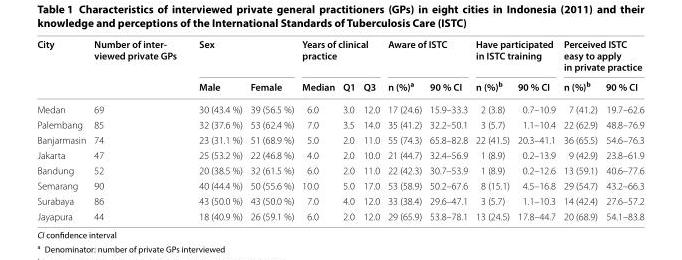table: (36, 37, 643, 221)
table column: (89, 37, 187, 221), (187, 37, 245, 221), (36, 37, 89, 221), (245, 37, 297, 221), (512, 37, 559, 221), (425, 37, 471, 221), (600, 37, 643, 221), (383, 37, 425, 221), (297, 37, 338, 221), (471, 37, 512, 221), (559, 37, 600, 221), (358, 37, 383, 221), (338, 37, 358, 221)
table column header: (36, 37, 643, 97)
table row: (36, 37, 643, 75), (36, 75, 643, 97), (36, 97, 643, 116), (36, 116, 643, 132), (36, 177, 643, 193), (36, 132, 643, 147), (36, 147, 643, 162), (36, 162, 643, 177), (36, 193, 643, 208), (36, 208, 643, 221)
table spanning cell: (89, 37, 187, 97), (187, 37, 297, 75), (383, 37, 471, 75), (471, 37, 559, 75), (297, 37, 383, 75), (559, 37, 643, 75), (36, 37, 89, 97)
